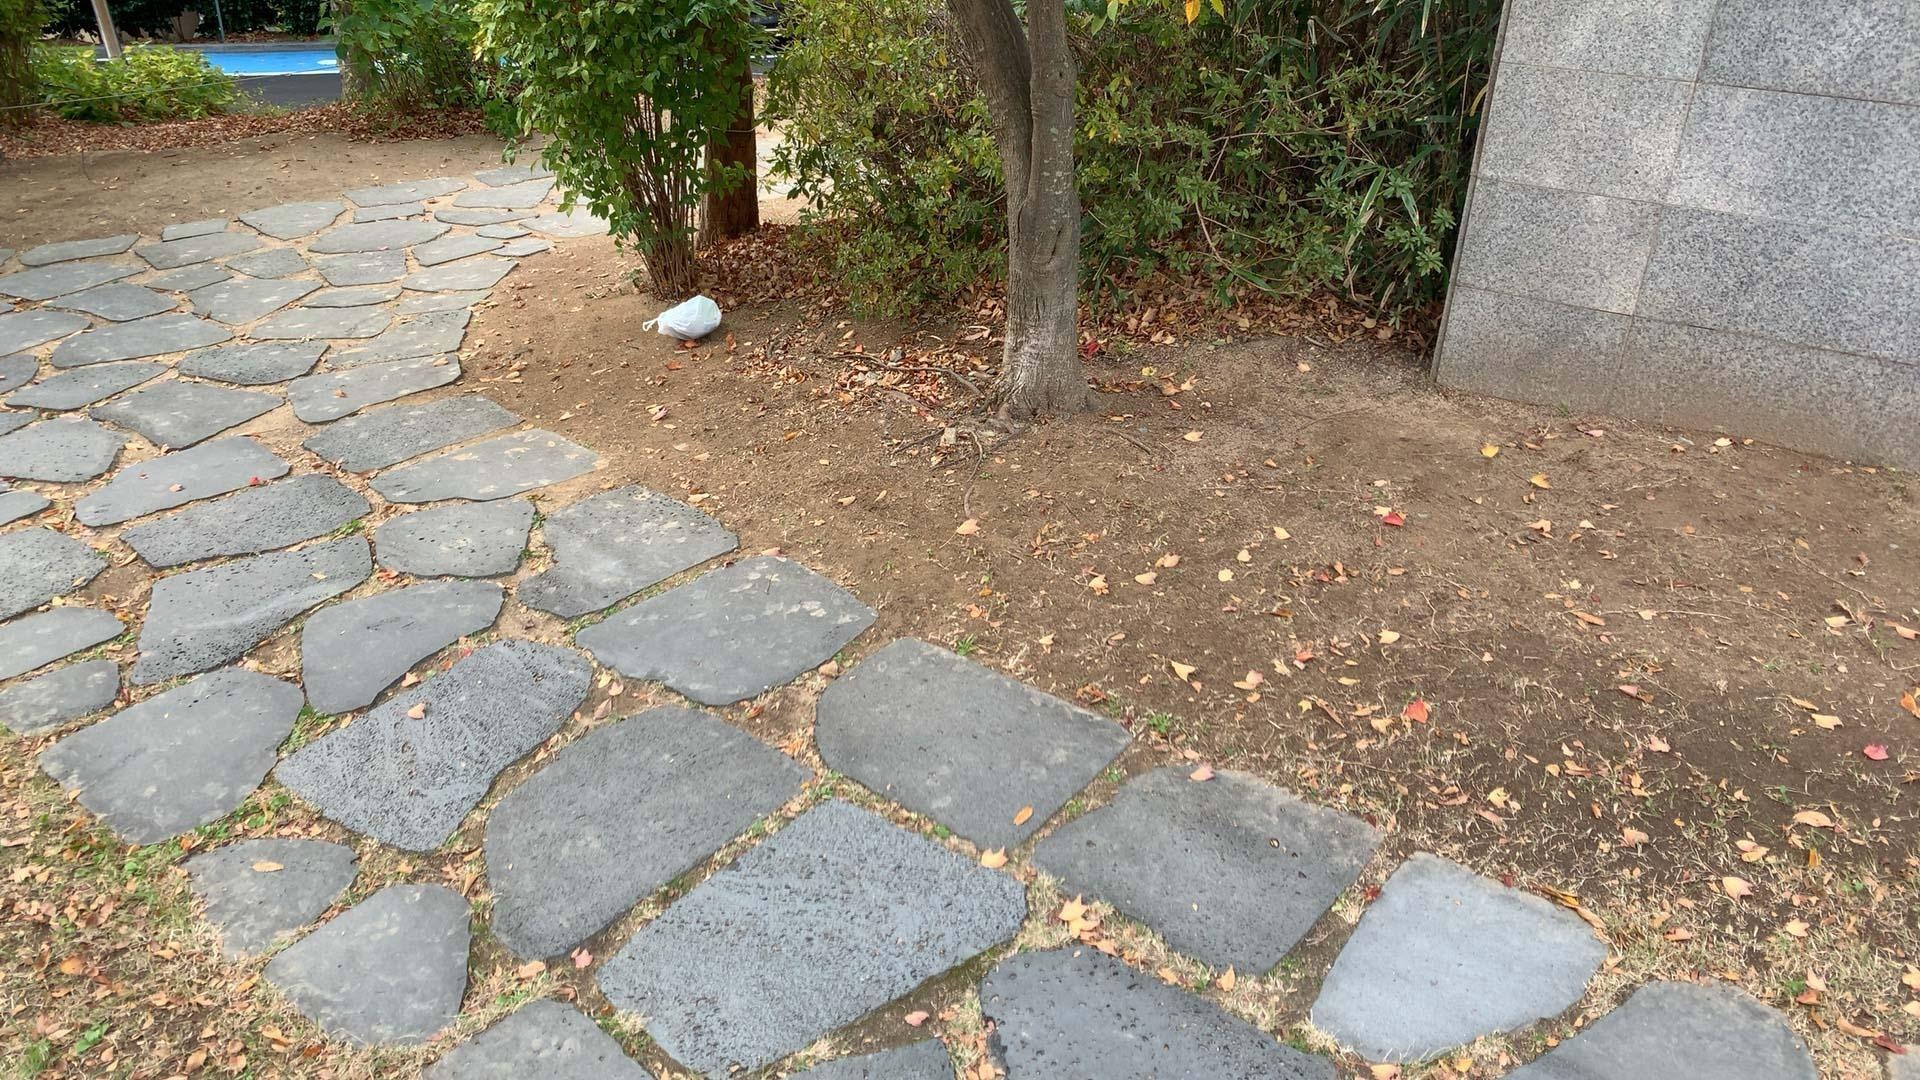white_bag: (632, 286, 727, 343)
